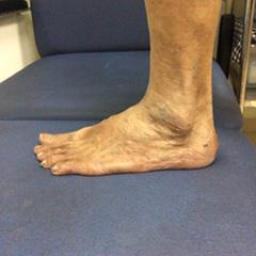Lateral View -Left Foot-: (28, 68, 226, 184)
